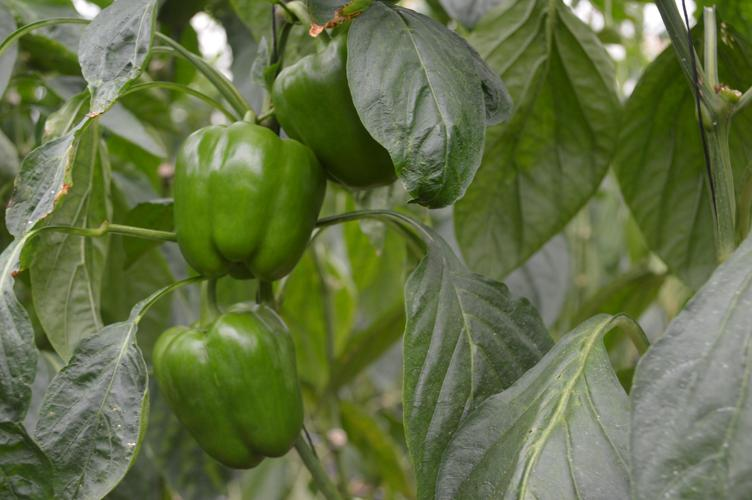BellPepper: (157, 304, 310, 463), (177, 124, 324, 279), (266, 41, 395, 185)
